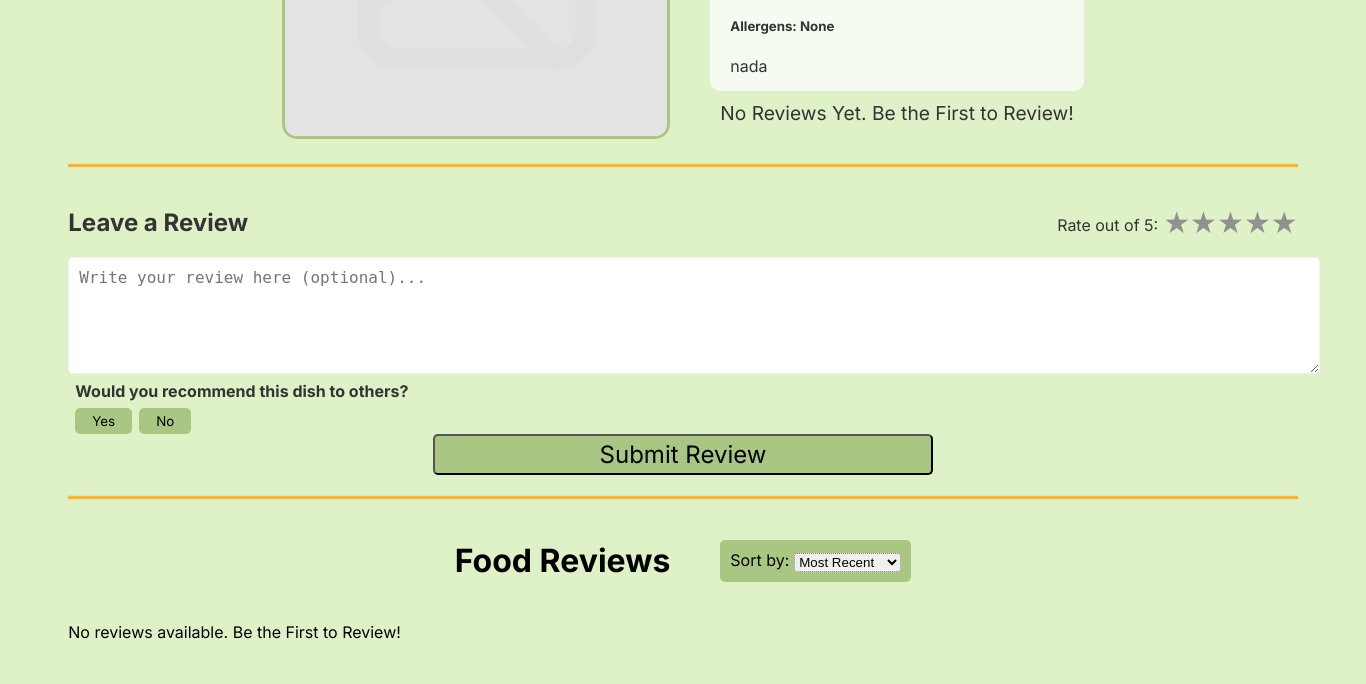
reviewForm functions as expected › expect review submission success, basic conditions
(page scrolled)
Expected: the text "Test Description" is not shown
Click the button with aria-label "YesButton": (104, 421) [75,408,132,434]
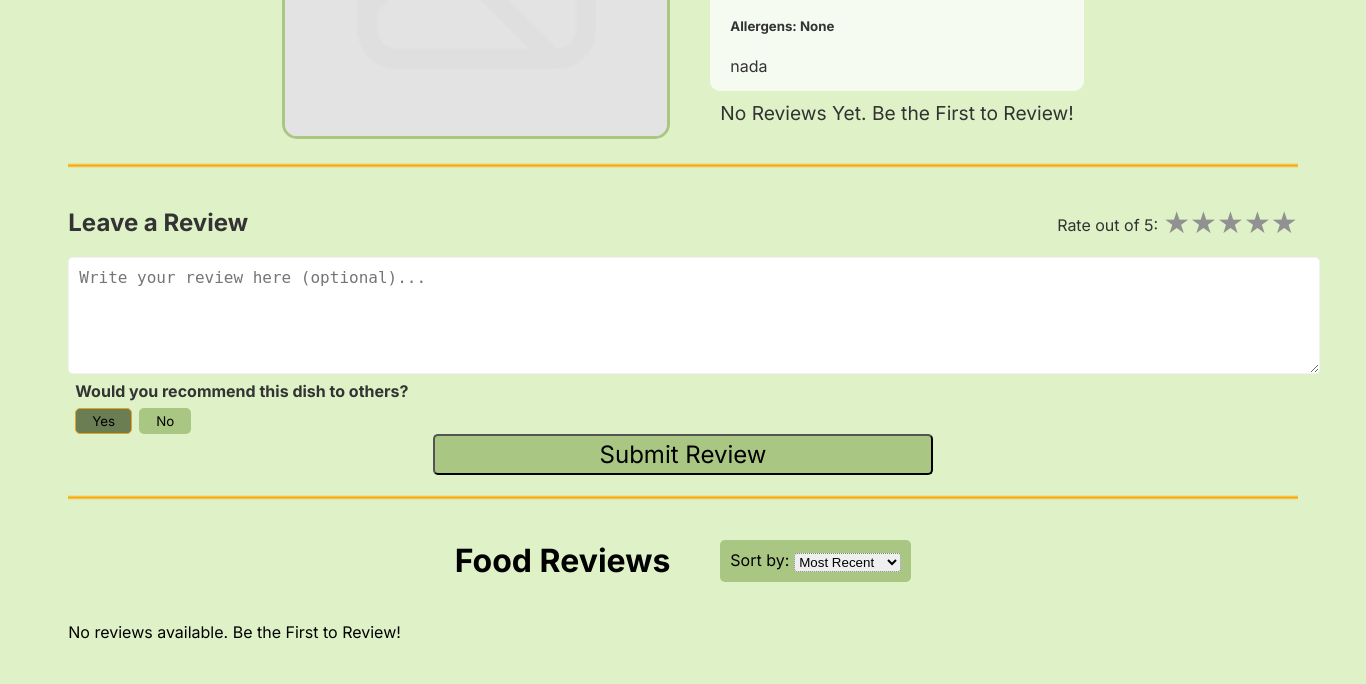
In the text box named "reviewFormInput": (694, 315) [68,257,1320,374], type "Test Description"
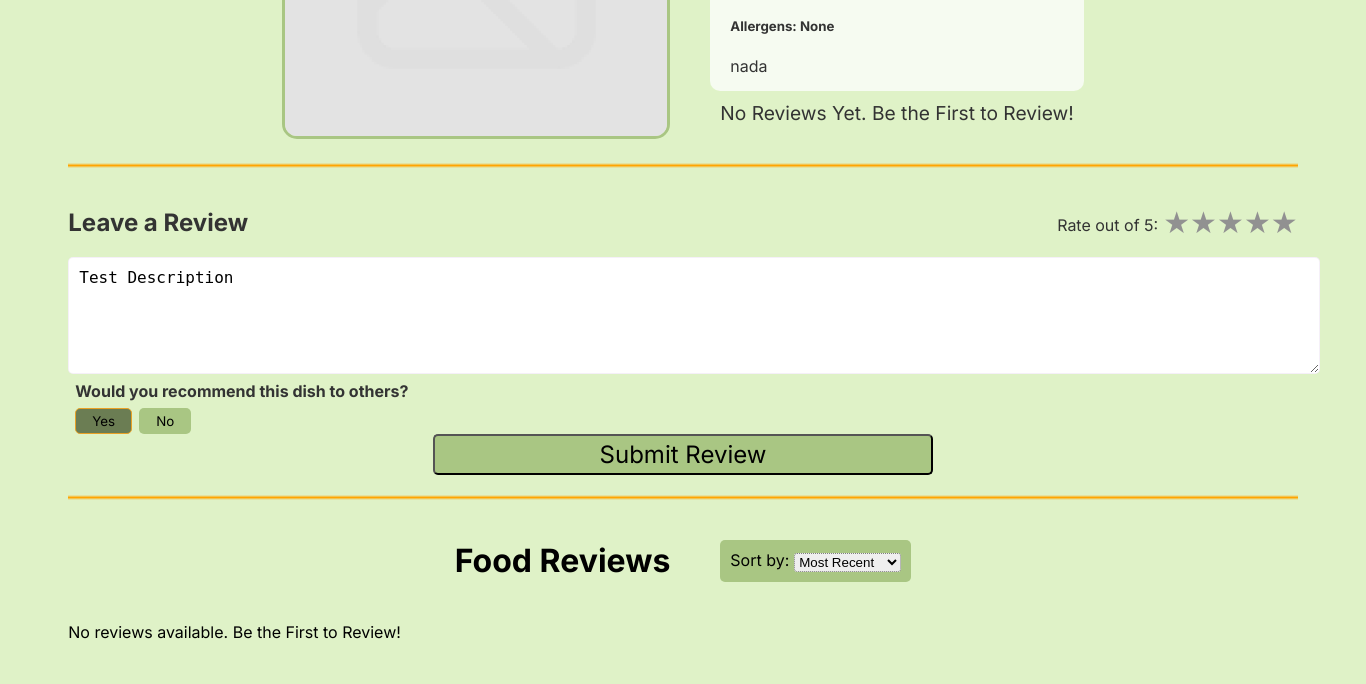
Click the text named "reviewFormStars": (1177, 222) [1163,204,1190,240]
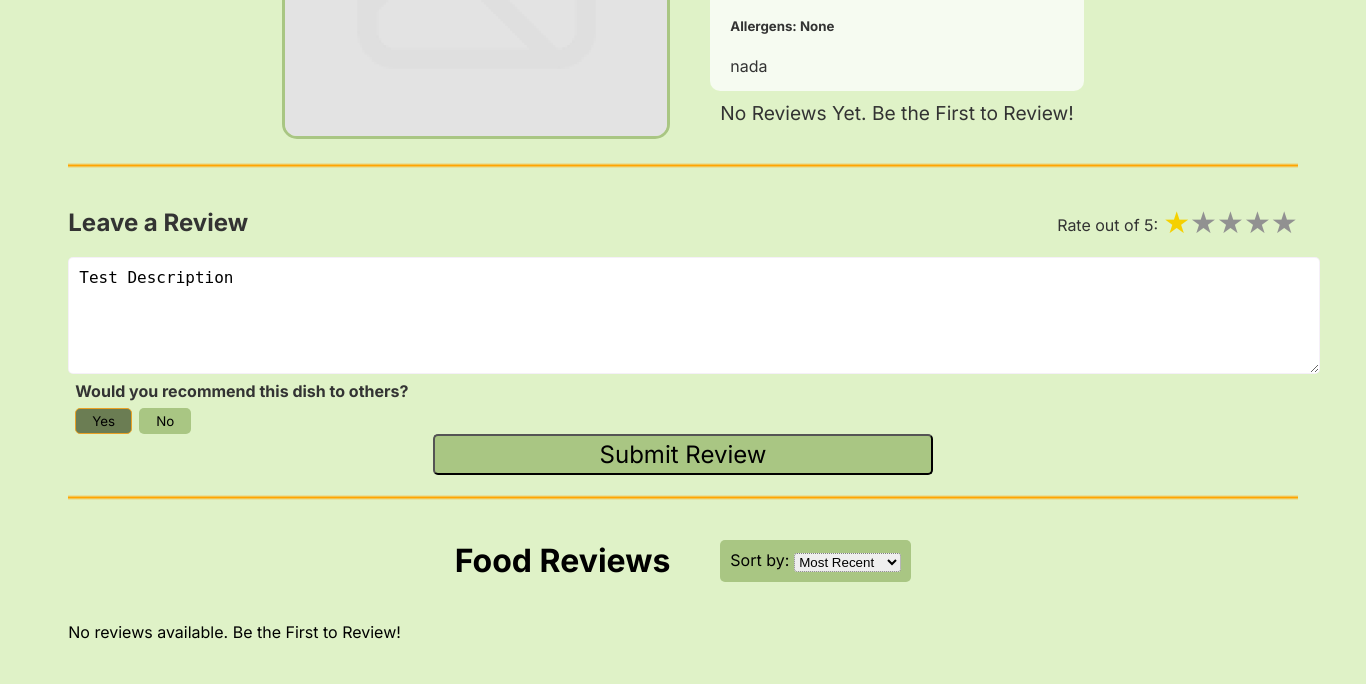
Click the button with aria-label "SubmitButton": (683, 454) [433,434,933,475]
(page scrolled)
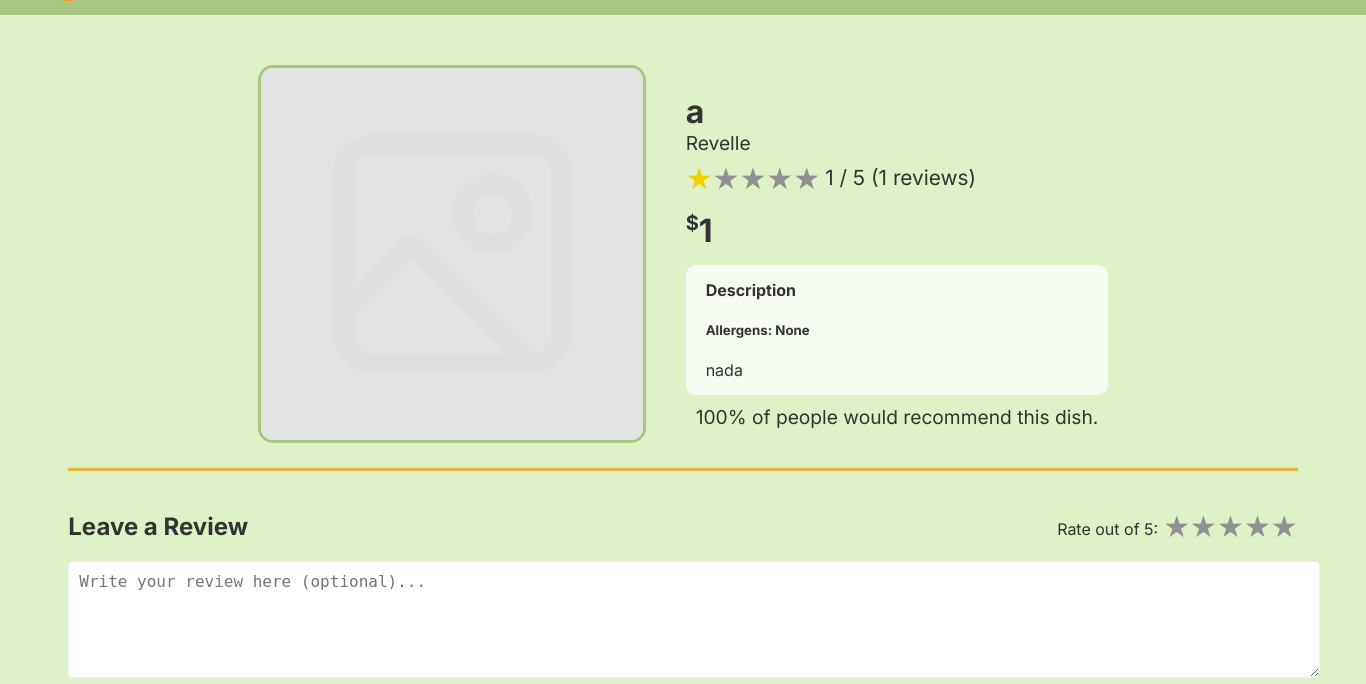
Expected: the text "100% of people would recommend this dish." is shown, [696,405,1098,429]
Expected: the text "1 / 5 (1 reviews)" is shown, [820,165,976,190]
Expected: the text named "ratingStarFilled" reads "★", [686,160,712,196]
